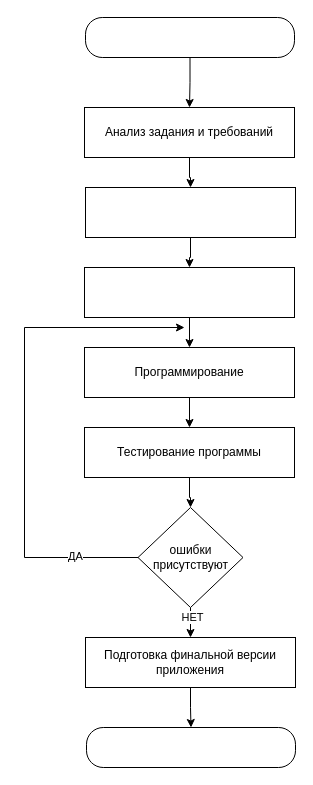
Some shapes in this 313 by 785 pixel diagram are drawn without their labels. The box of each missing label's shape, as (x1, y1, x2, y2) in pixels:
Проектирование базы данных: (84, 186, 296, 238)
Разработка алгоритма работы программы: (84, 266, 294, 318)
